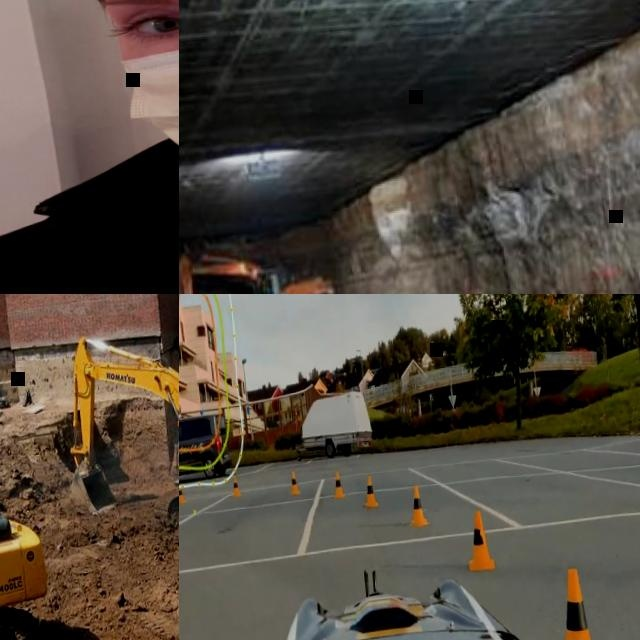NO-Safety Vest: (0, 152, 179, 294)
Person: (0, 0, 179, 294)
Safety Cone: (549, 562, 608, 640), (466, 509, 494, 574), (408, 482, 429, 529), (362, 474, 378, 511), (288, 467, 303, 498), (331, 470, 345, 502), (230, 474, 242, 499), (179, 481, 185, 505)
machinery: (59, 311, 179, 549), (0, 294, 56, 640), (179, 235, 341, 294)
vehicle: (179, 544, 640, 640), (179, 409, 233, 487)
